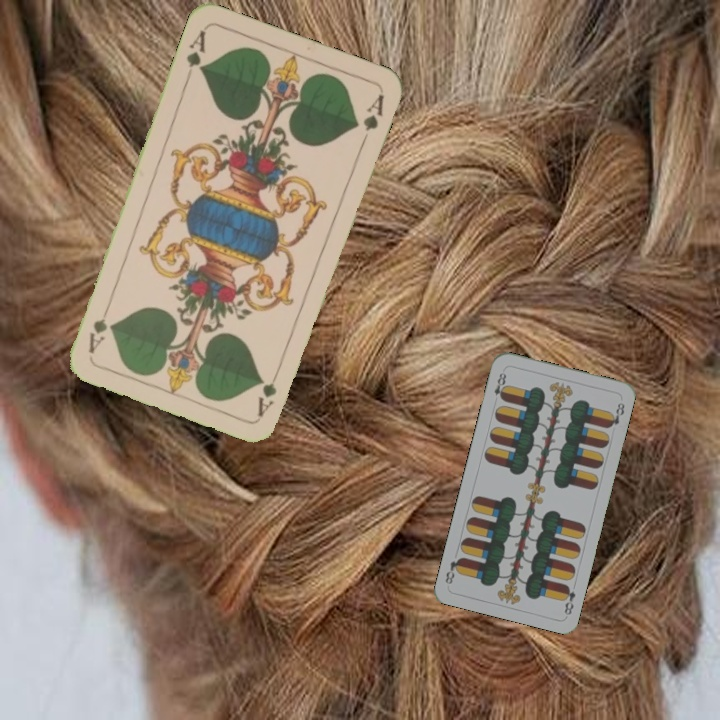E8: (558, 581, 578, 618), (490, 366, 509, 403)
GA: (253, 362, 284, 419), (182, 26, 209, 75)
